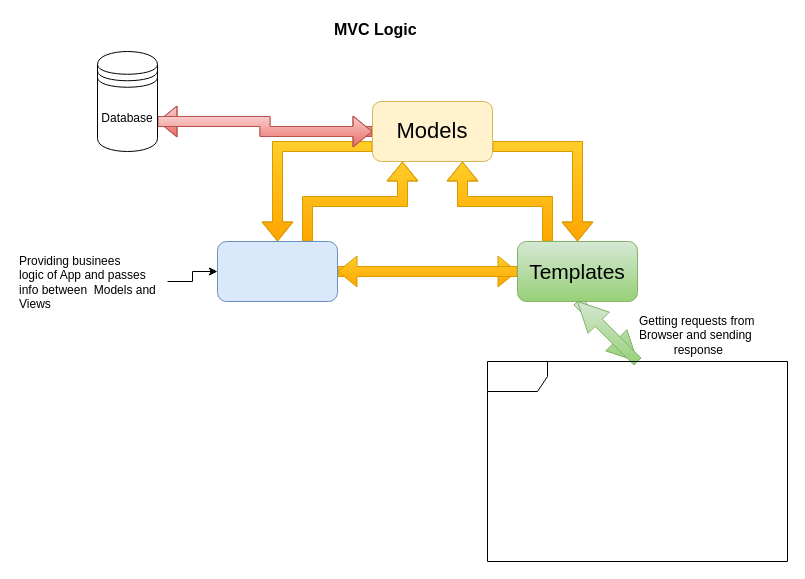
Some shapes in this 805 by 579 pixel diagram are drawn without their labels. Here are the shapes that lost their labels. From the top down, the centre of each, then its label:
At (x=277, y=271): "Views".
At (x=637, y=461): "Browser".
